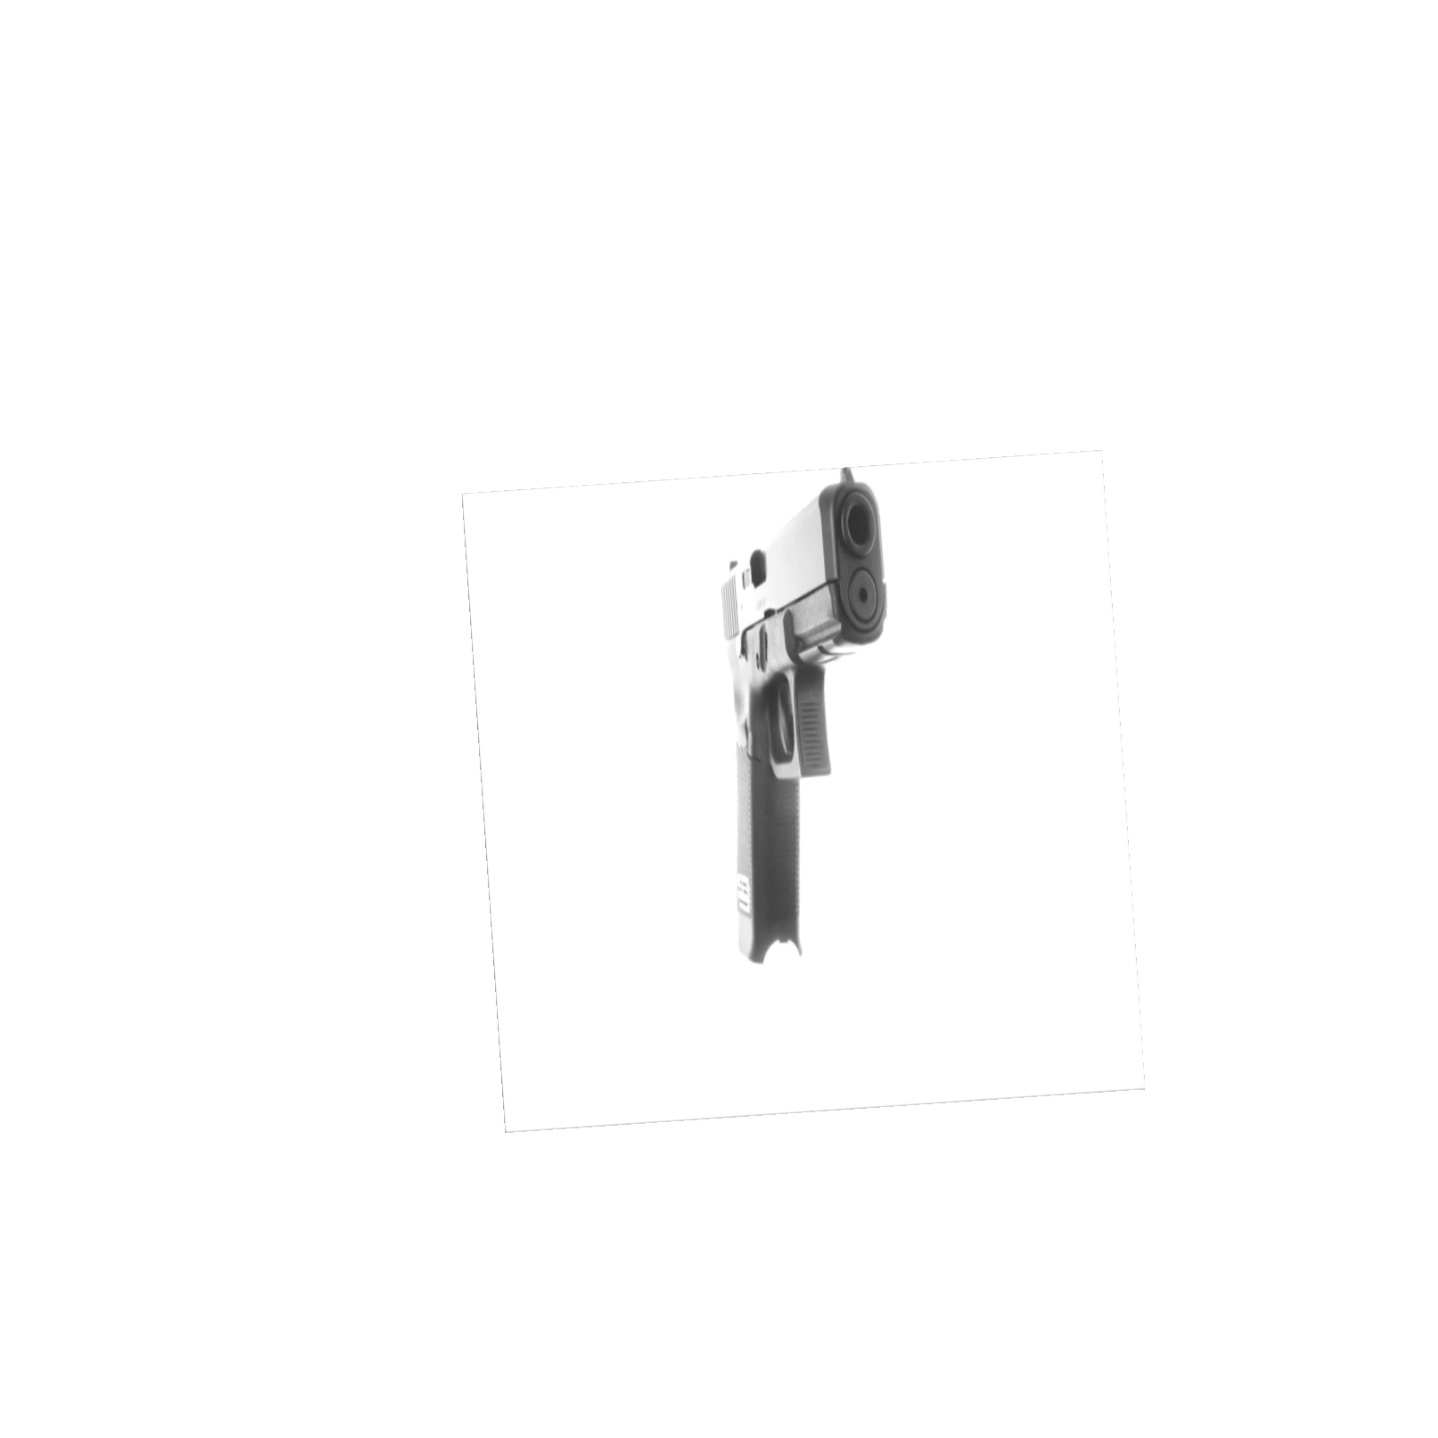gun: (712, 458, 895, 967)
